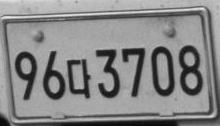0: (150, 45, 176, 97)
3: (95, 49, 120, 98)
6: (41, 51, 66, 100)
7: (121, 47, 146, 99)
8: (178, 44, 204, 96)
9: (13, 50, 38, 101)
다: (66, 58, 91, 99)
